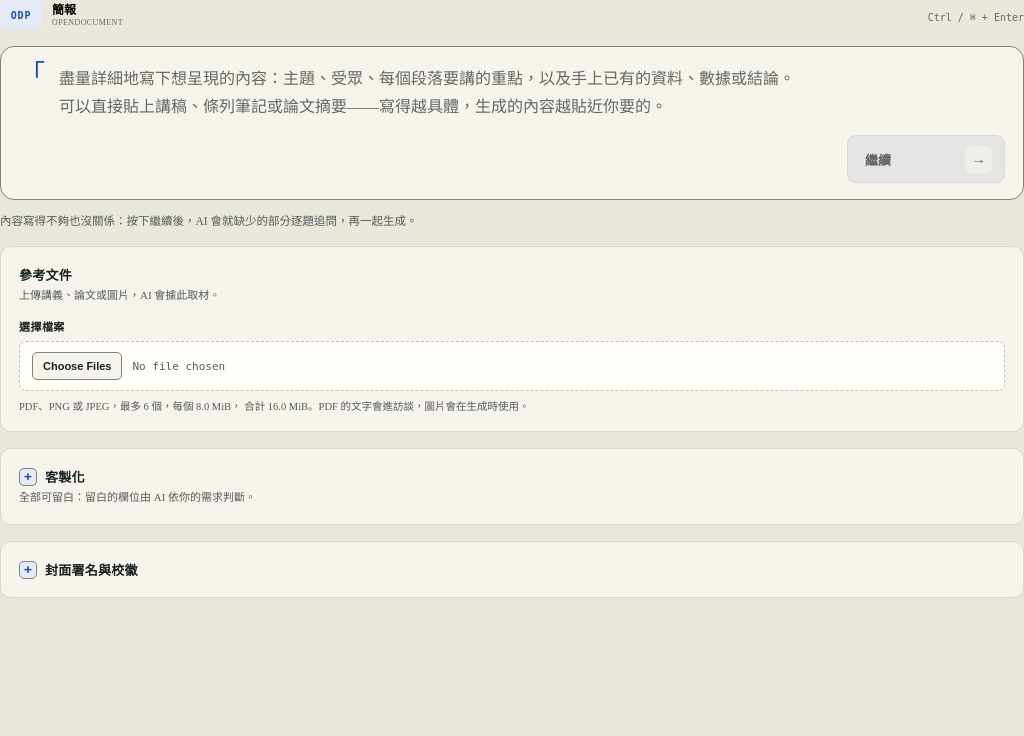
Test: 收起時仍看得見自己設過什麼;沒設過就不多話
Expected: the text "已指定" is not shown
Click the button "+ 客製化" at (65, 478), box x1=19 y1=467 x2=1005 y2=486
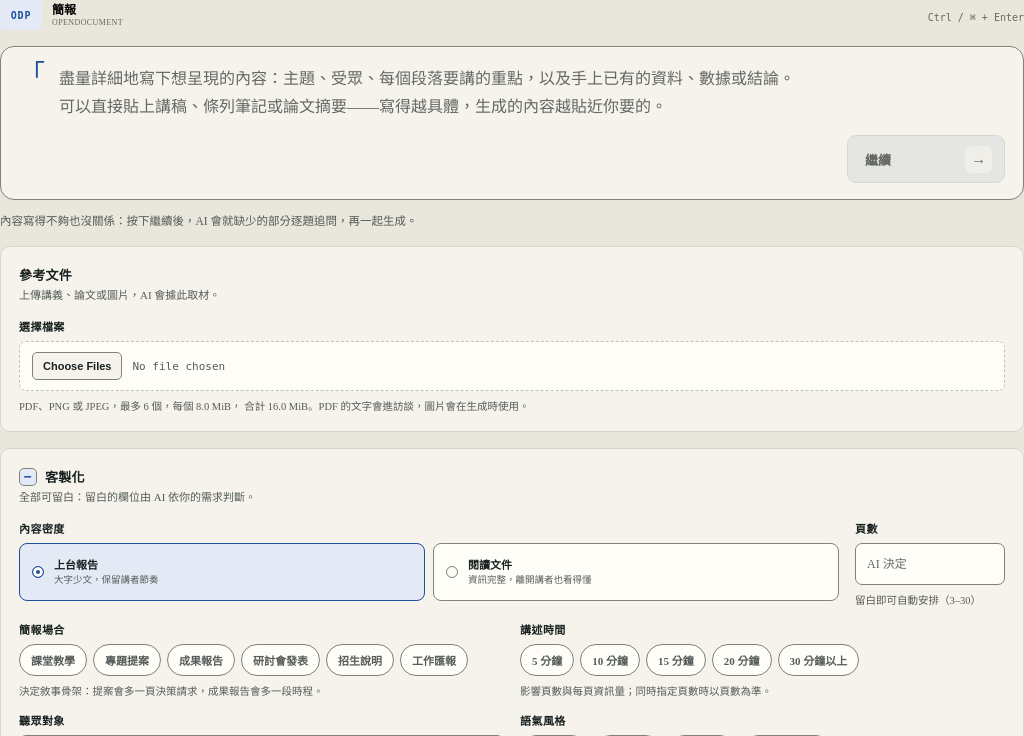
Type "12" into the number field labelled "頁數 留白即可自動安排（3–30）" at (930, 564), box x1=855 y1=544 x2=1005 y2=586
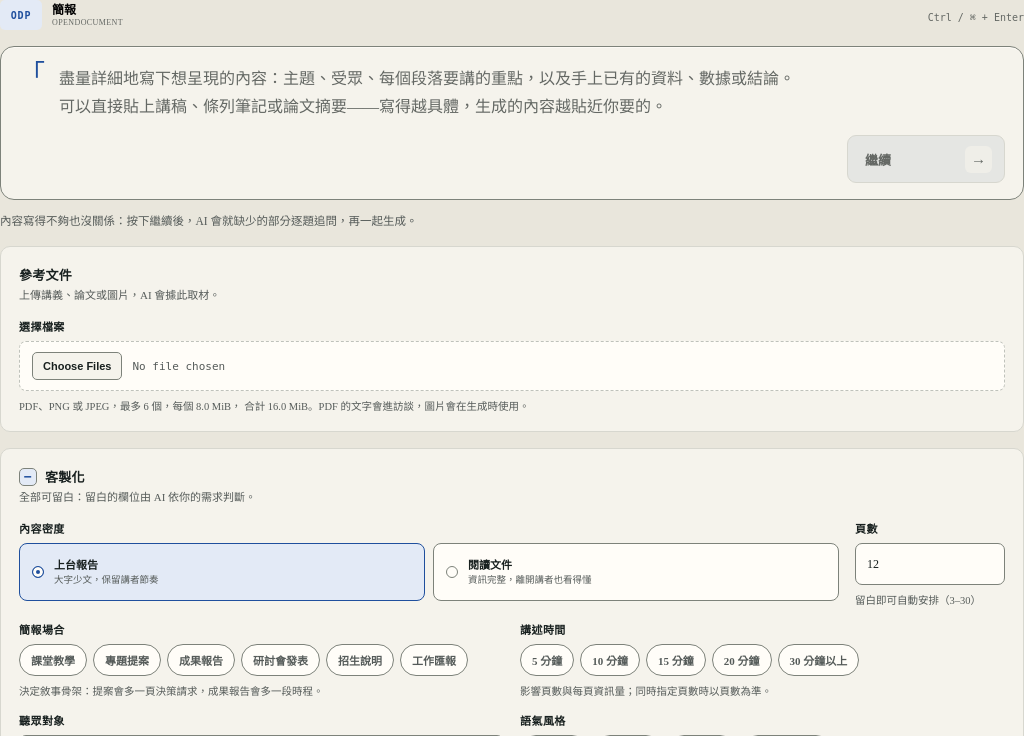
Click the button "課堂教學" at (53, 660), box x1=19 y1=644 x2=87 y2=676
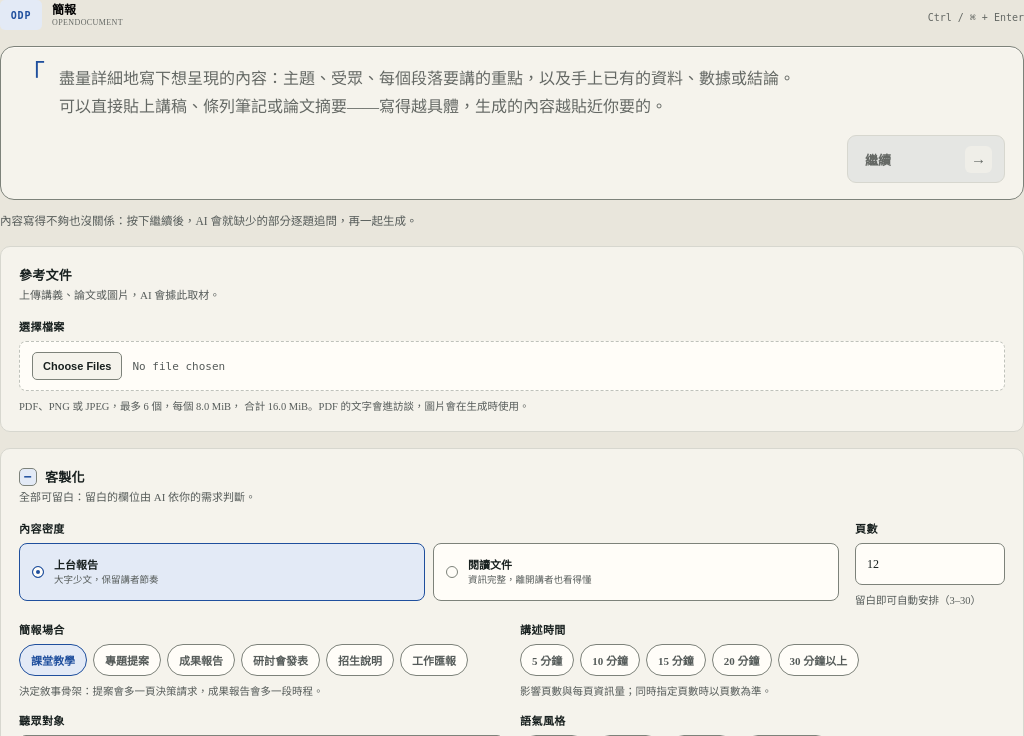
Click the button "− 客製化" at (65, 478), box x1=19 y1=467 x2=1005 y2=486
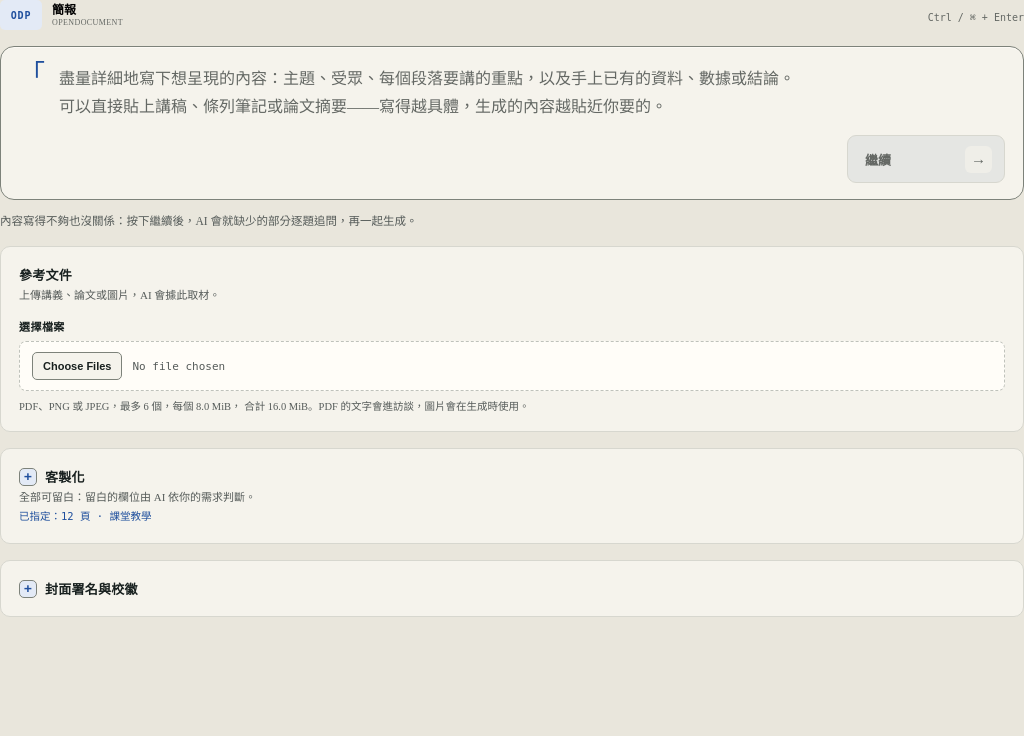
Expected: the text "已指定：12 頁 · 課堂教學" is shown, x1=19 y1=510 x2=151 y2=522
